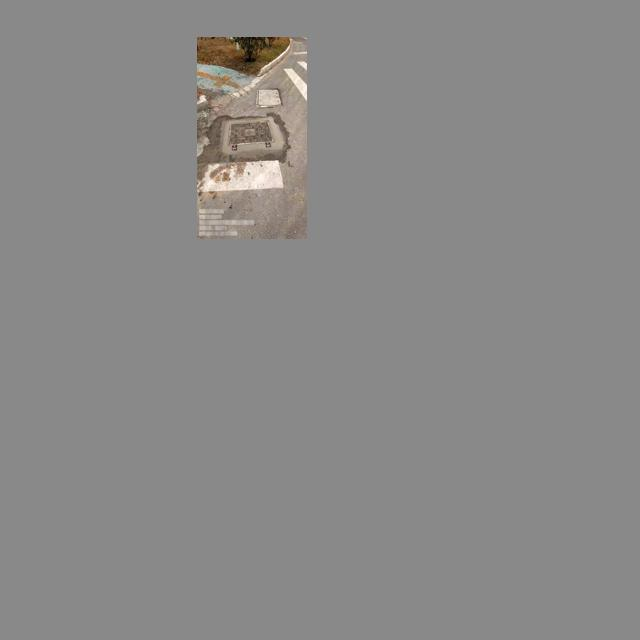good: (226, 119, 275, 150), (255, 88, 282, 108)
